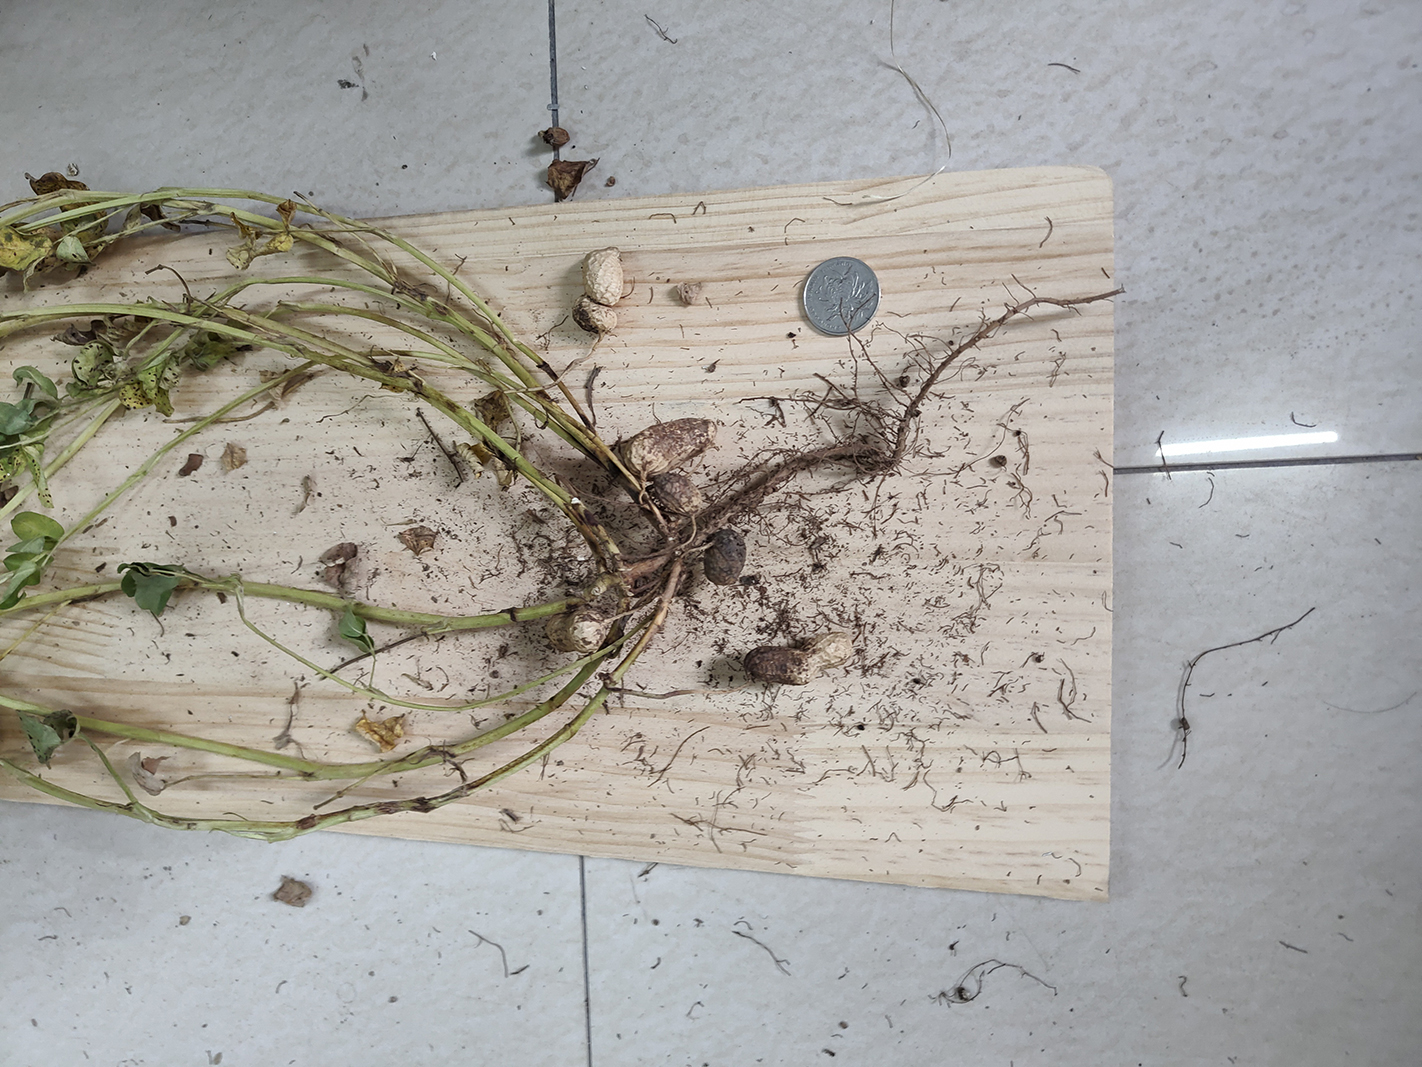h: (575, 245, 621, 336), (543, 610, 608, 650)
l: (626, 416, 717, 477), (742, 634, 849, 681), (704, 528, 746, 590), (651, 476, 701, 514)
